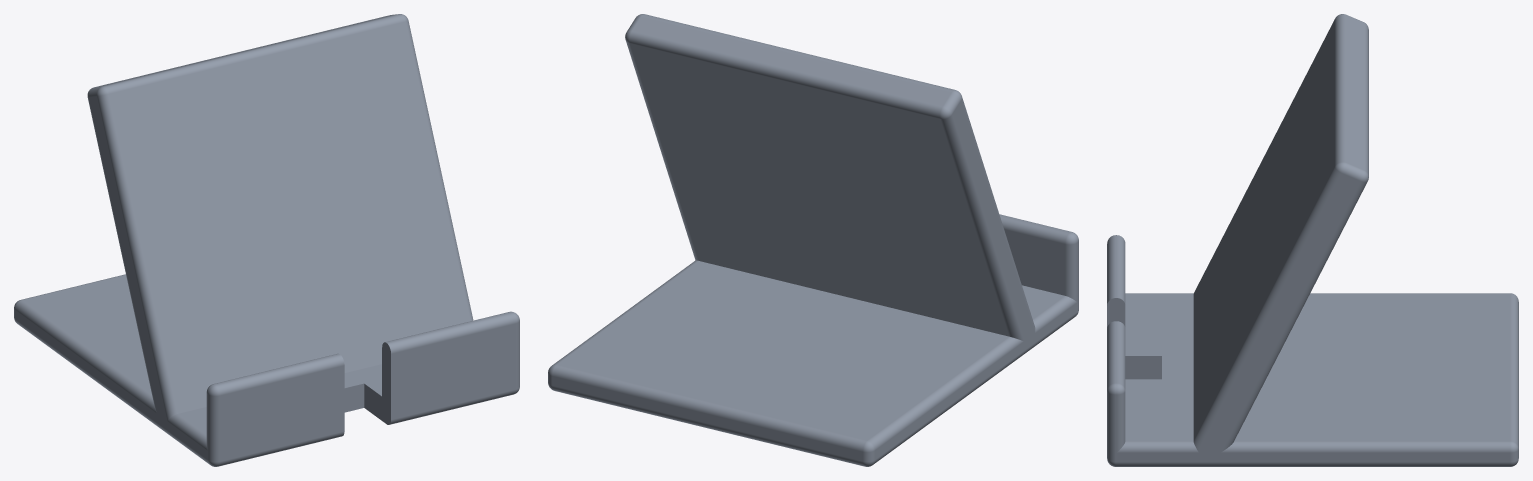
File: step-3-preview-1.glb
The picture shows the model from 3 angles, left to right: view 1: azimuth 30°, elevation 25°; view 2: azimuth 150°, elevation 25°; view 3: azimuth 270°, elevation 25°; orthographic projection. The views are drawn at different scales.
Parts seen in each view (by area): view 1: preview_36, preview_41, preview_49, preview_1, preview_10, preview_26, preview_32, preview_6, preview_18, preview_60, preview_58, preview_39 (+8 smaller); view 2: preview_0, preview_1, preview_10, preview_12, preview_4, preview_7, preview_15, preview_3, preview_50, preview_6, preview_33, preview_32 (+7 smaller); view 3: preview_1, preview_36, preview_8, preview_39, preview_5, preview_18, preview_12, preview_2, preview_19, preview_32, preview_56, preview_7 (+8 smaller).
Boxes of the visible parts, x1,y1,x2,y2 form: preview_36: (108,22,468,413); preview_41: (391,323,515,419); preview_49: (220,365,344,461); preview_1: (23,275,151,394); preview_10: (15,96,208,459); preview_26: (97,94,177,420); preview_32: (103,14,403,93); preview_6: (15,300,156,413); preview_18: (404,21,473,321); preview_60: (216,354,344,395); preview_58: (387,313,515,353); preview_39: (178,364,381,434); preview_0: (630,43,1008,336); preview_1: (557,261,1008,440); preview_10: (875,101,1077,459); preview_12: (632,17,950,106); preview_4: (629,31,942,118); preview_7: (552,365,866,451); preview_15: (552,376,862,461); preview_3: (940,115,1023,341); preview_50: (1004,229,1064,295); preview_6: (867,336,1023,450); preview_33: (552,386,864,466); preview_32: (641,14,954,92); preview_1: (1234,294,1509,441); preview_36: (1193,19,1334,440); preview_8: (1116,174,1509,461); preview_39: (1125,294,1193,441); preview_5: (1220,441,1509,452); preview_18: (1193,167,1342,452); preview_12: (1346,15,1363,169); preview_2: (1220,181,1367,452); preview_19: (1116,462,1509,466); preview_32: (1335,14,1346,165); preview_56: (1107,298,1161,379); preview_7: (1510,294,1518,448).
Bounding box in the file's own units: 0.08 × 0.0733 × 0.09.
